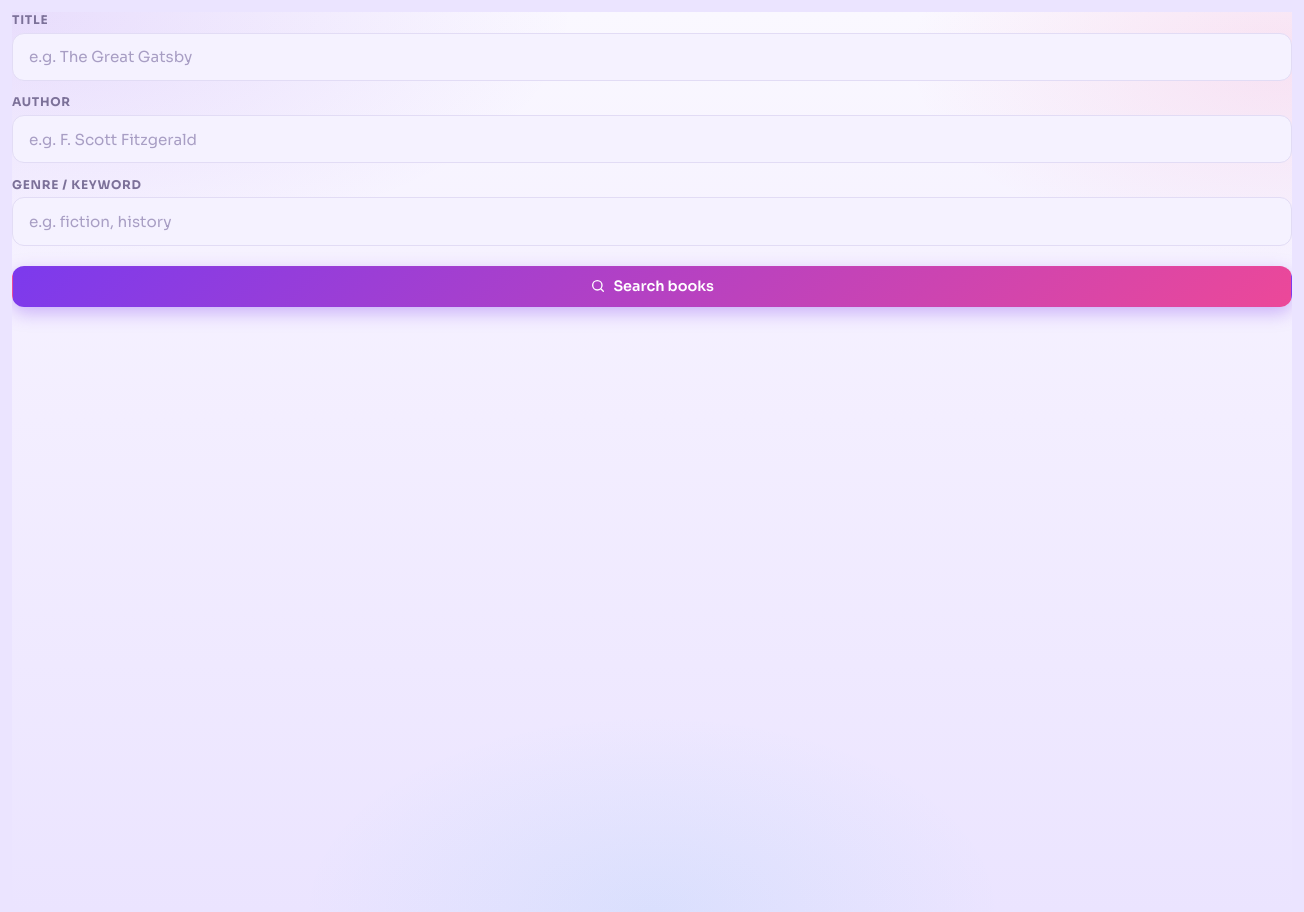
Test: SearchForm › clears the error after the user starts typing
Click the button "Search books": (652, 286) [12, 266, 1292, 306]
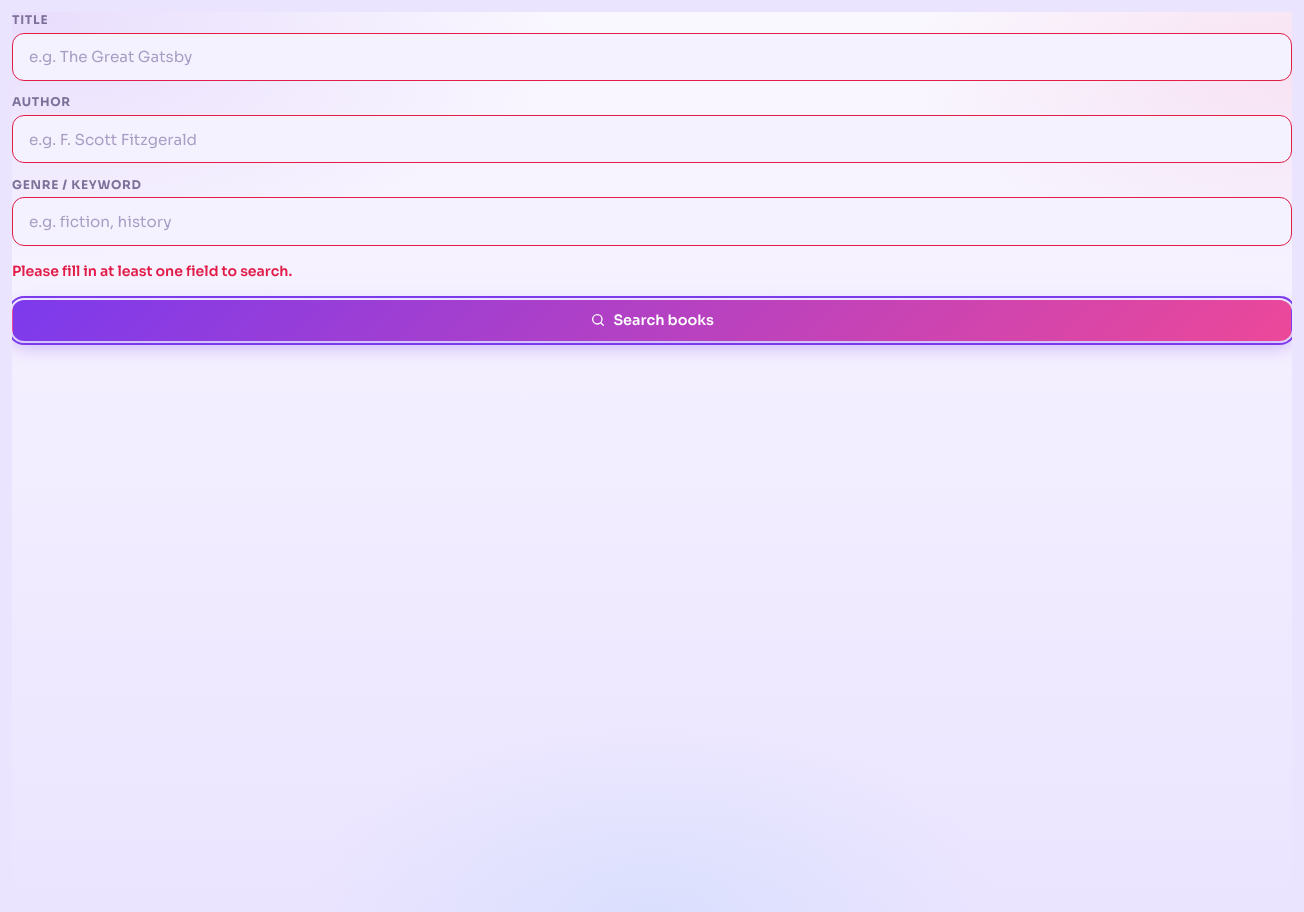
Expected: the message "Please fill in at least one field to search." is shown, [12, 262, 292, 280]
In the field labelled "Genre / Keyword": (652, 221) [12, 197, 1292, 246], type "sci"
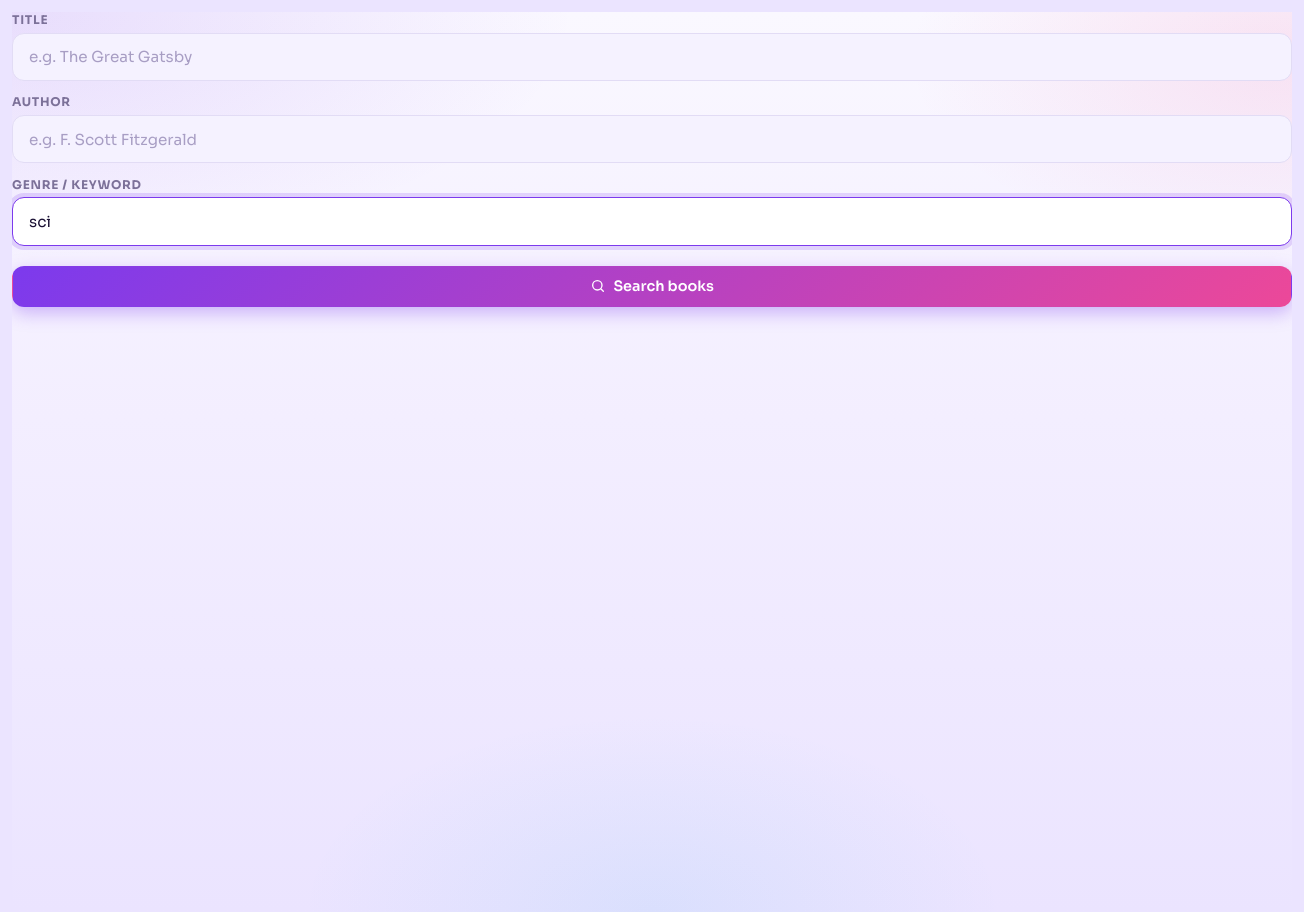
Expected: the message "Please fill in at least one field to search." is gone
